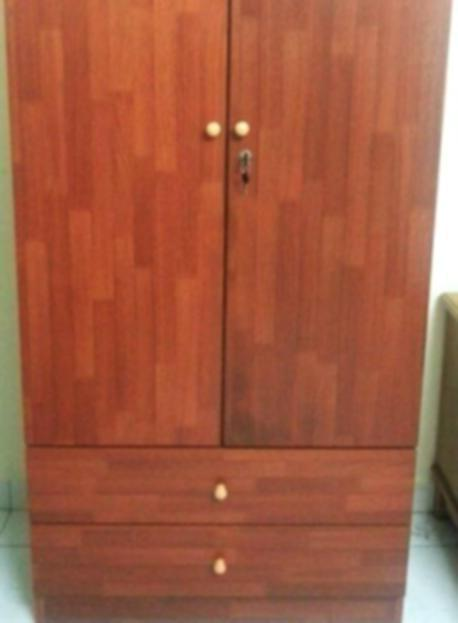Armario: (8, 12, 453, 616)
